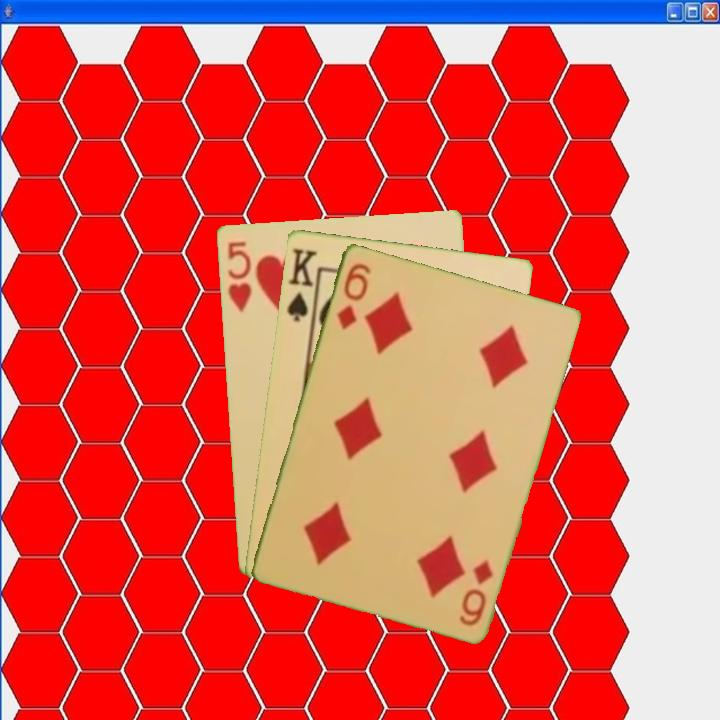5h: (223, 237, 254, 315)
6d: (332, 259, 374, 332), (455, 555, 496, 629)
Ks: (283, 244, 321, 326)
